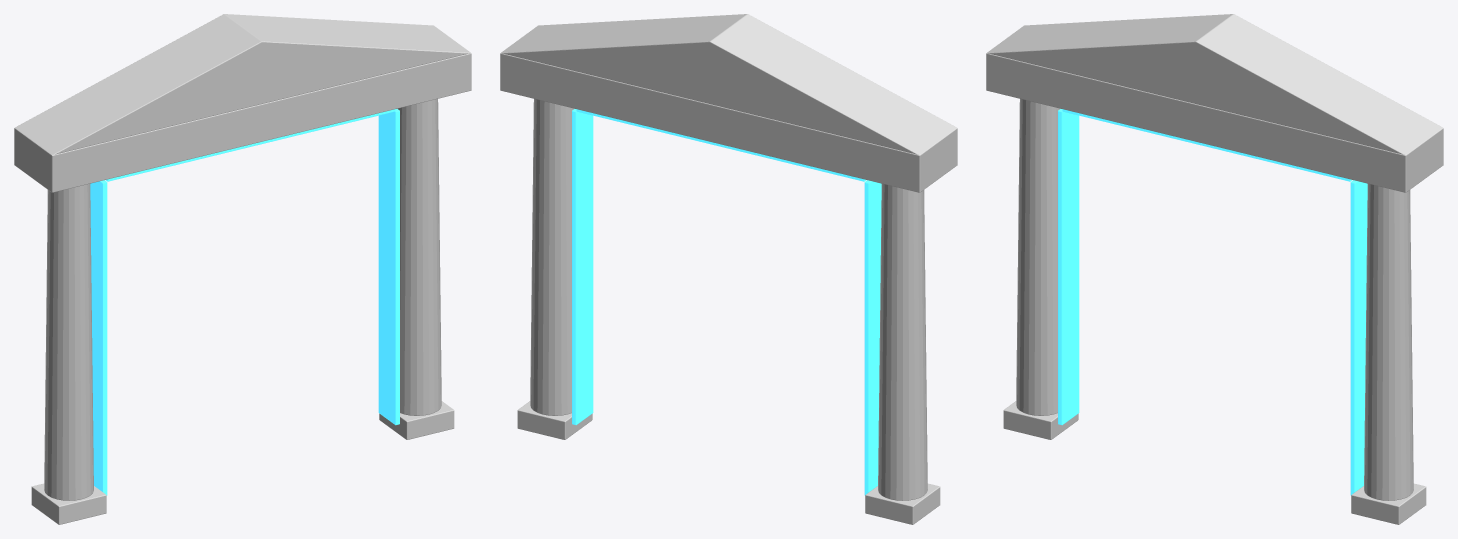
File: grecia_arch.fbx
3 renders of one model, left to right at view 1: azimuth 30°, elevation 25°; view 2: azimuth 150°, elevation 25°; view 3: azimuth 330°, elevation 25°, orthographic.
Visible parts, largest first — view 1: grecia_arch; view 2: grecia_arch; view 3: grecia_arch.
Part boxes in pixels (x1,y1,x2,y2): grecia_arch: [14, 14, 471, 524]; grecia_arch: [500, 14, 957, 524]; grecia_arch: [986, 14, 1443, 524].
Bounding box in the file's own units: 7 × 7 × 1.1.
